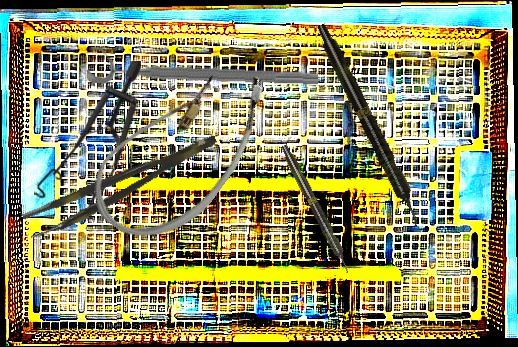Cannula: (76, 32, 287, 265)
Fixation Ring: (86, 44, 319, 92)
Handpiece: (312, 21, 427, 230), (278, 143, 354, 275)
Speculum: (34, 61, 141, 219)
Tissue Forceps: (21, 132, 225, 242)
